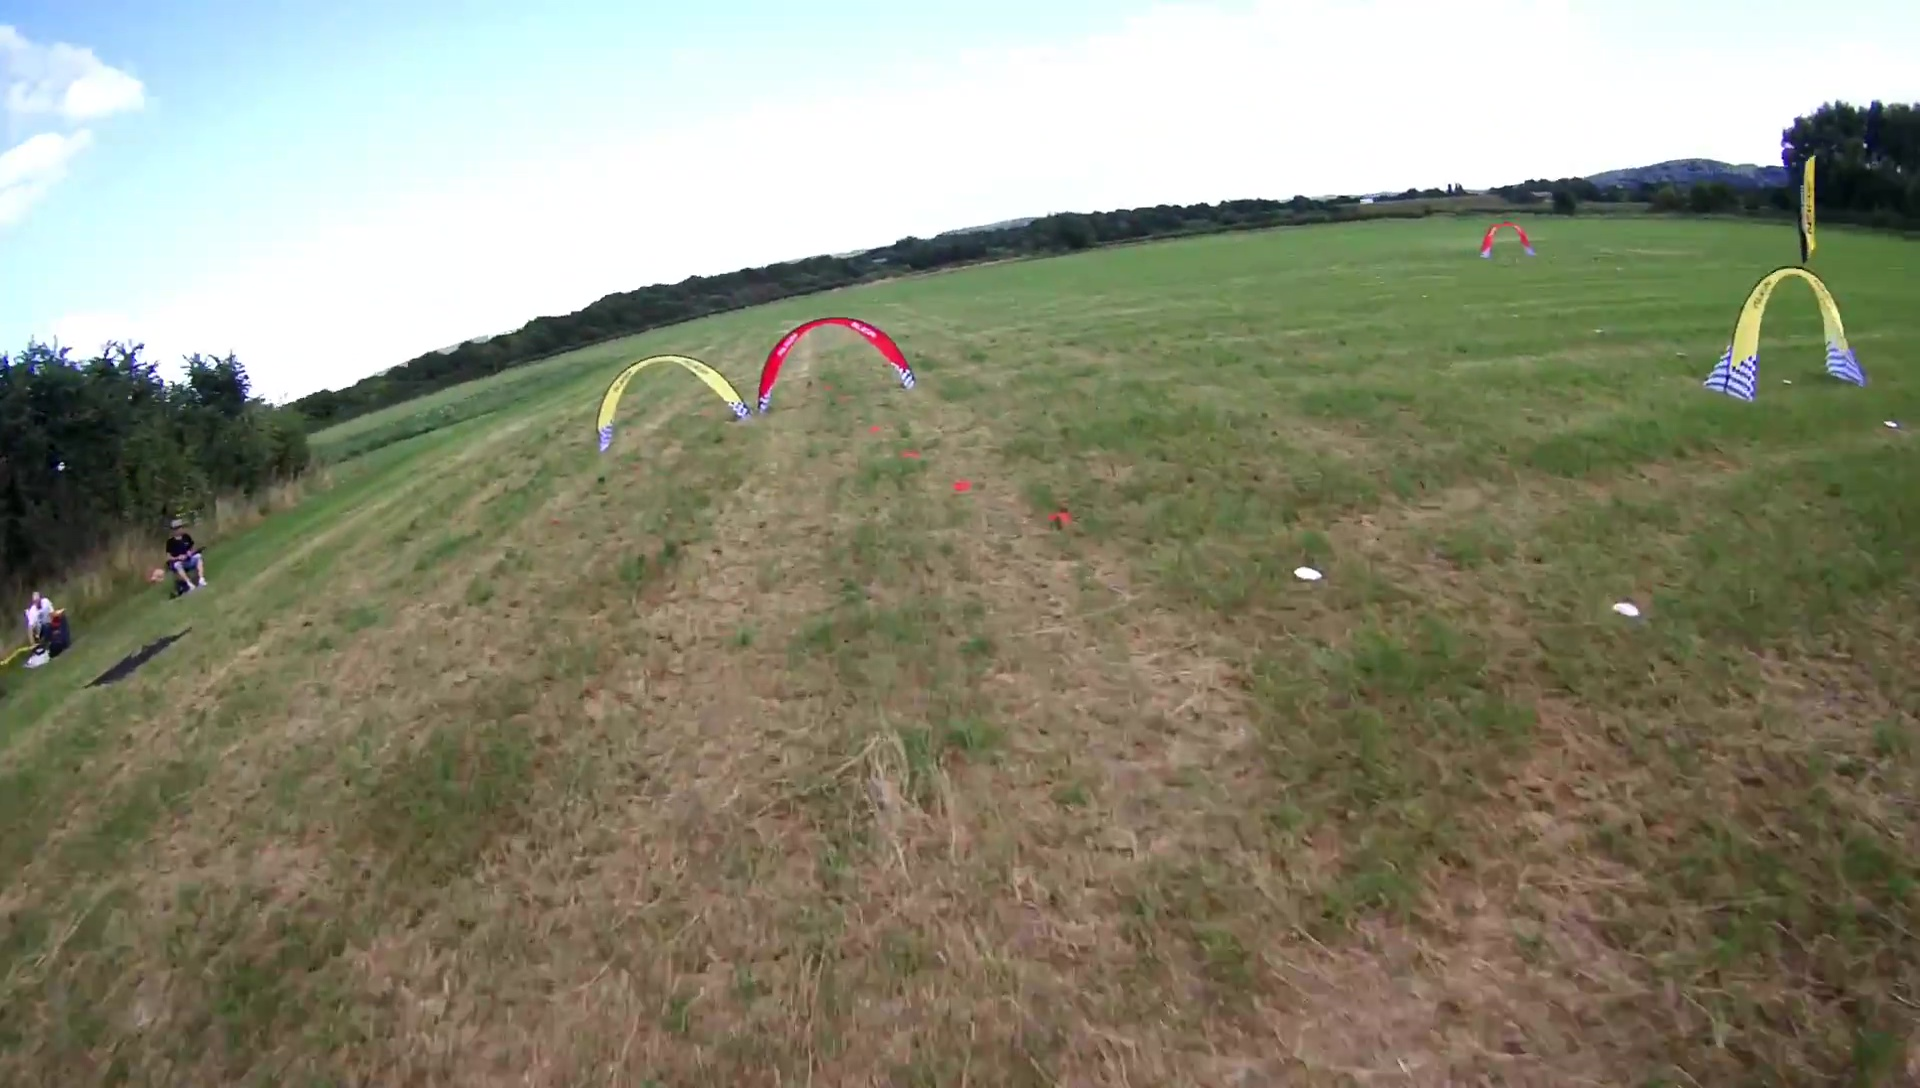gate: (1704, 264, 1865, 406), (757, 317, 920, 414), (595, 353, 752, 448), (1476, 222, 1539, 260)
